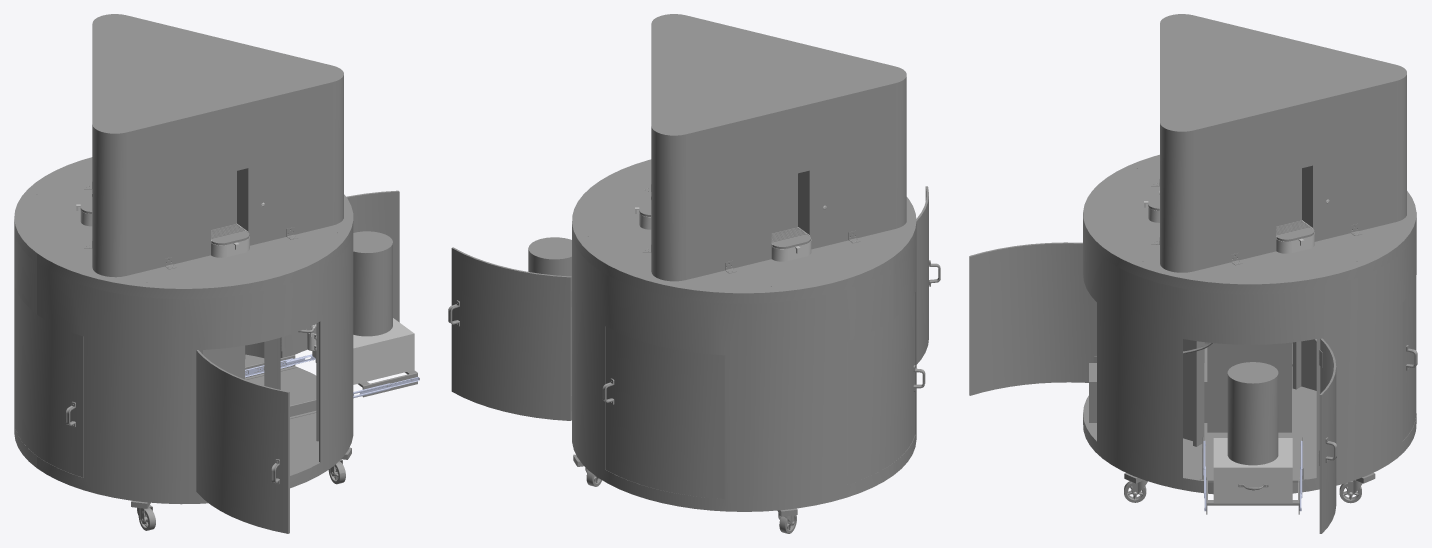
The model's file is watering-hole.glb.
3 renders of one model, left to right at view 1: azimuth 30°, elevation 25°; view 2: azimuth 150°, elevation 25°; view 3: azimuth 270°, elevation 25°, orthographic. The views are drawn at different scales.
Visible parts, largest first — view 1: empty_2; view 2: empty_2; view 3: empty_2.
Part boxes in pixels (x1=…): empty_2: x1=14, y1=14, x2=419, y2=533; empty_2: x1=448, y1=14, x2=940, y2=533; empty_2: x1=969, y1=14, x2=1417, y2=533.
Bounding box in the file's own units: 2.04 × 1.9 × 2.02.
Materials: 1 (1 with a texture image).
